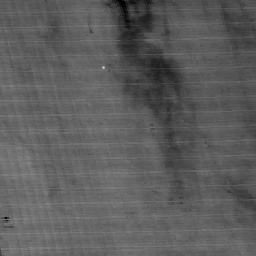Target: (99, 63, 107, 72)
